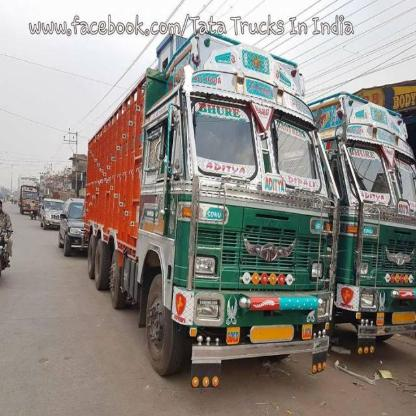truck: (81, 39, 342, 386), (311, 84, 415, 360)
